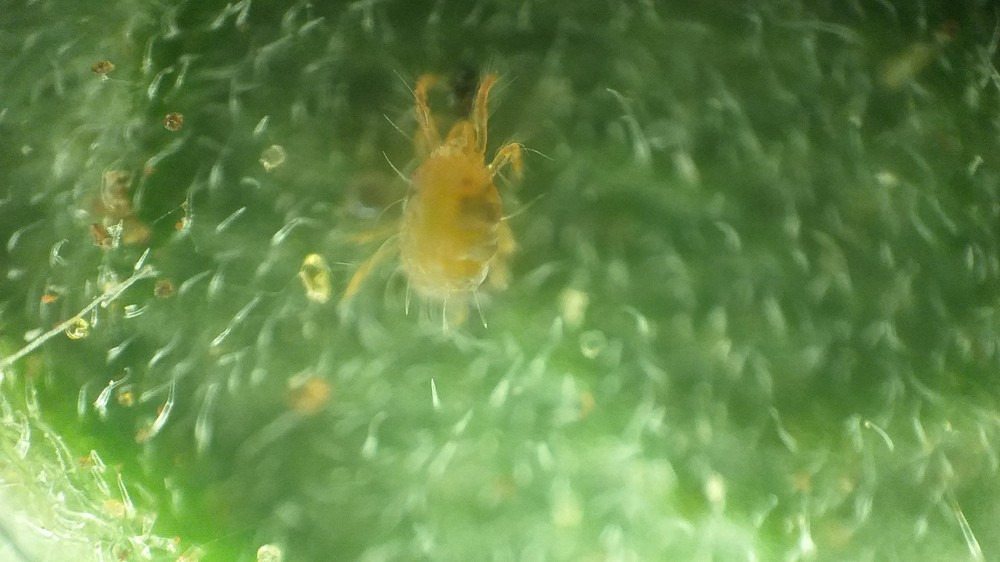Aracnido Rojo: (346, 60, 554, 358)
